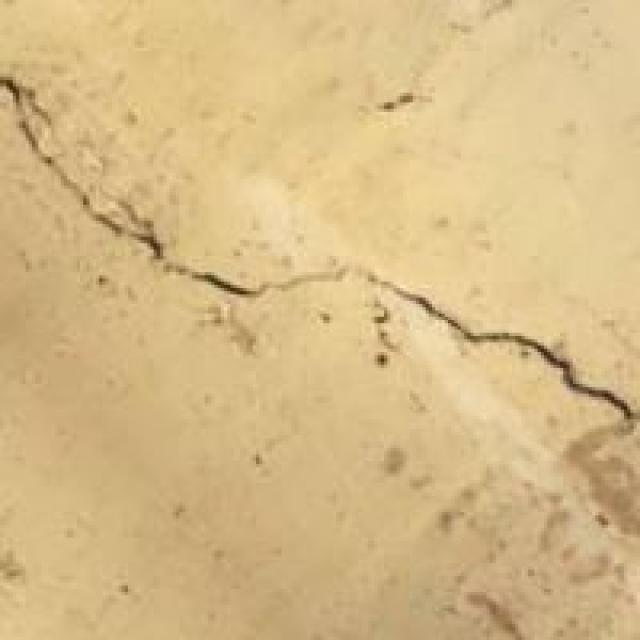Crack: (0, 40, 640, 530)
